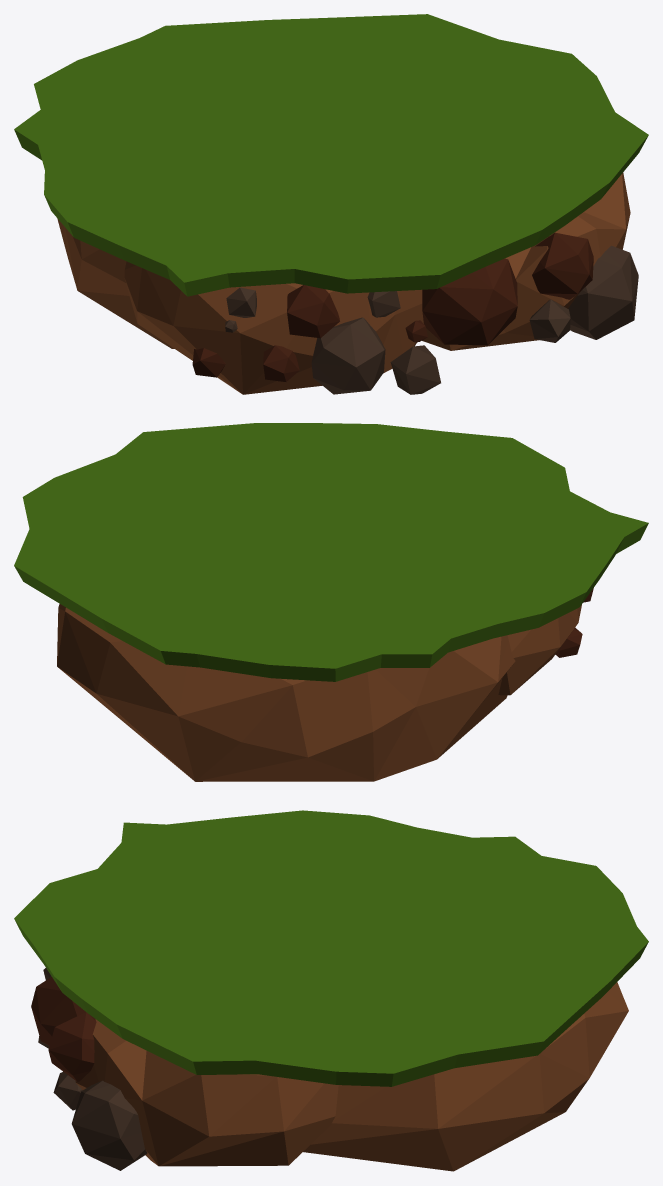
Rendered from ground.FBX.
The picture shows the model from 3 angles, top to bottom: view 1: azimuth 30°, elevation 25°; view 2: azimuth 150°, elevation 25°; view 3: azimuth 270°, elevation 25°; orthographic projection. The views are drawn at different scales.
Parts seen in each view (by area): view 1: huitugou_2405_03, huitugou_2405_01; view 2: huitugou_2405_03, huitugou_2405_01; view 3: huitugou_2405_03, huitugou_2405_01.
Boxes of the visible parts, x1=… form: huitugou_2405_03: x1=14, y1=14, x2=648, y2=296; huitugou_2405_01: x1=57, y1=172, x2=638, y2=394; huitugou_2405_03: x1=14, y1=423, x2=648, y2=681; huitugou_2405_01: x1=57, y1=588, x2=593, y2=781; huitugou_2405_03: x1=14, y1=810, x2=648, y2=1086; huitugou_2405_01: x1=31, y1=968, x2=628, y2=1171.
Bounding box in the file's own units: 20980 × 6875 × 21381.
